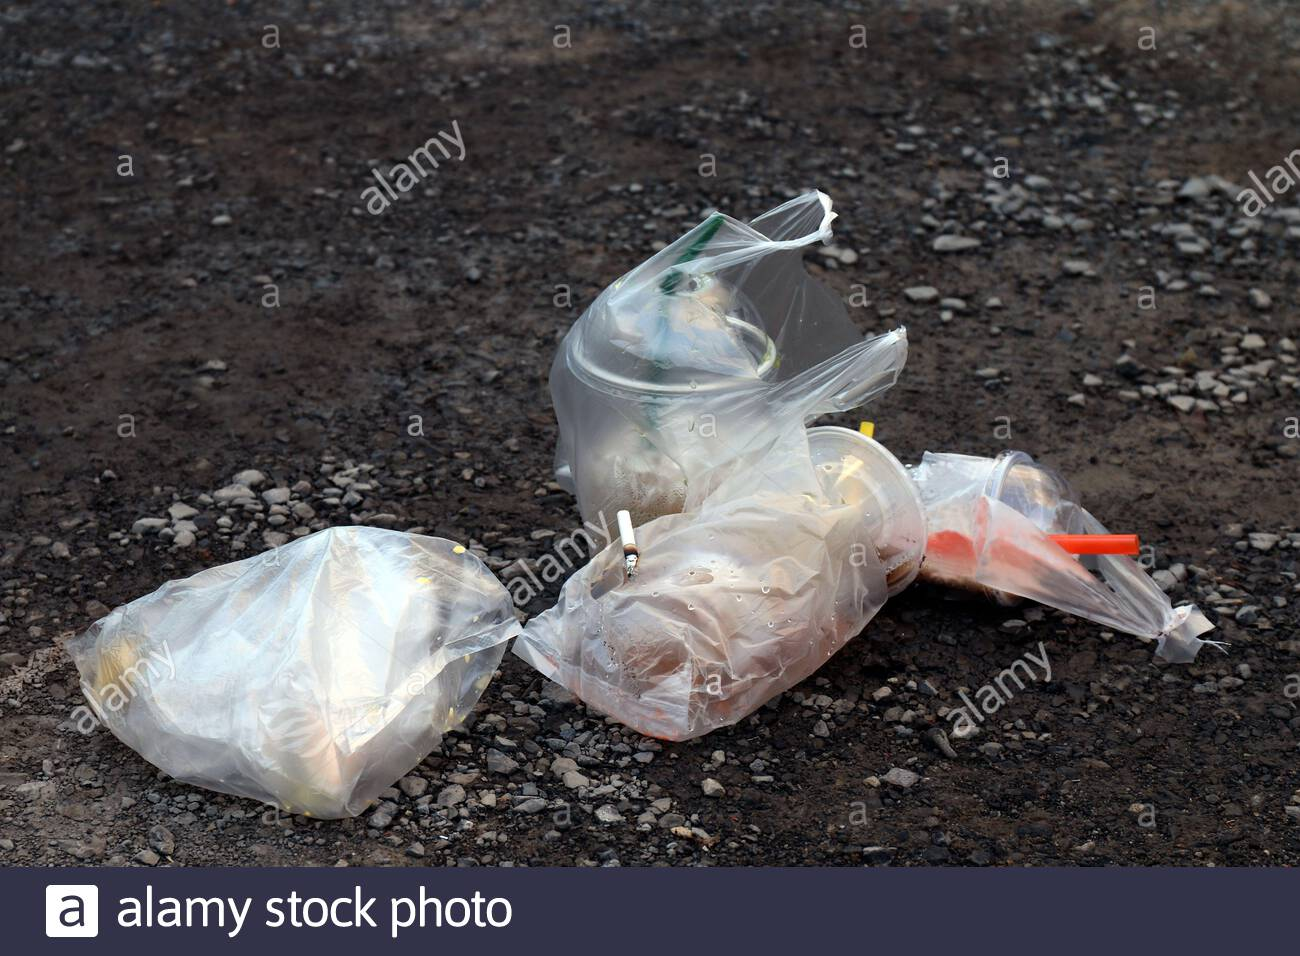plastic_bag: (76, 521, 529, 831), (503, 423, 928, 750), (541, 187, 920, 545)
